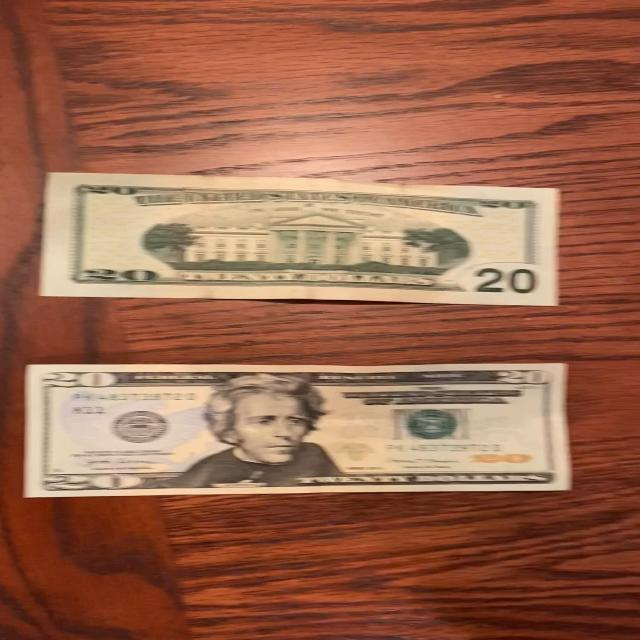20-Back: (31, 168, 571, 314)
20-Front: (19, 356, 582, 502)
